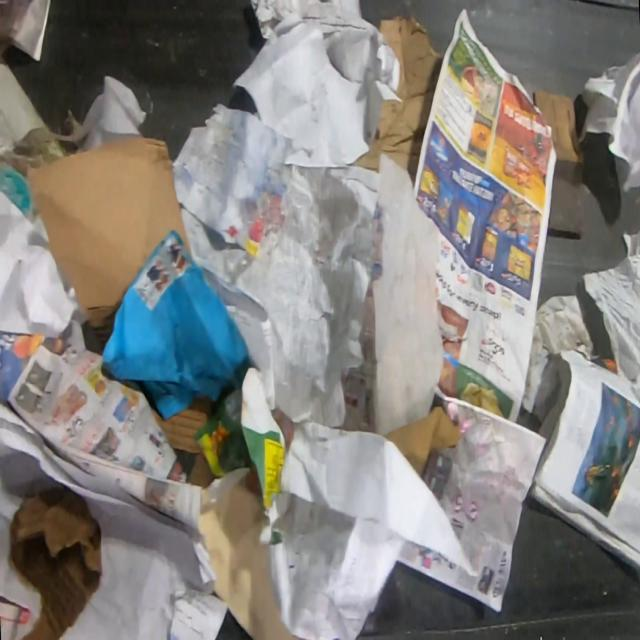cardboard: (26, 132, 192, 353), (346, 15, 446, 188), (6, 486, 104, 640), (534, 88, 583, 235), (381, 408, 464, 478), (151, 394, 213, 456)
